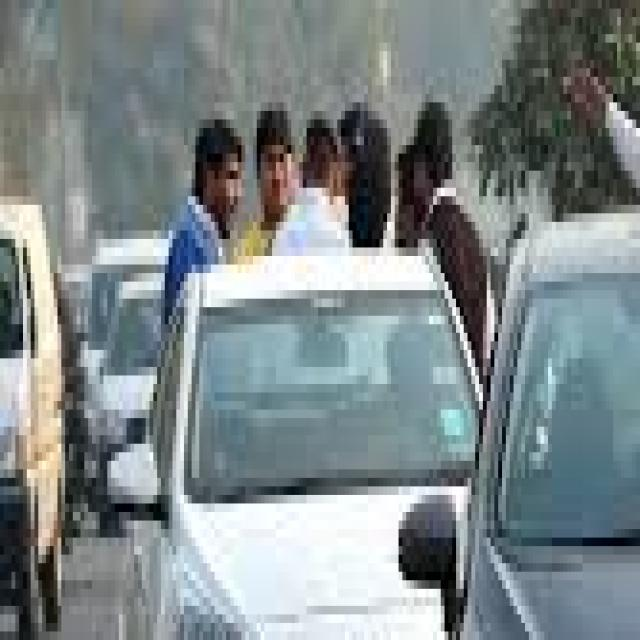car: (108, 162, 522, 640), (421, 136, 640, 640)
